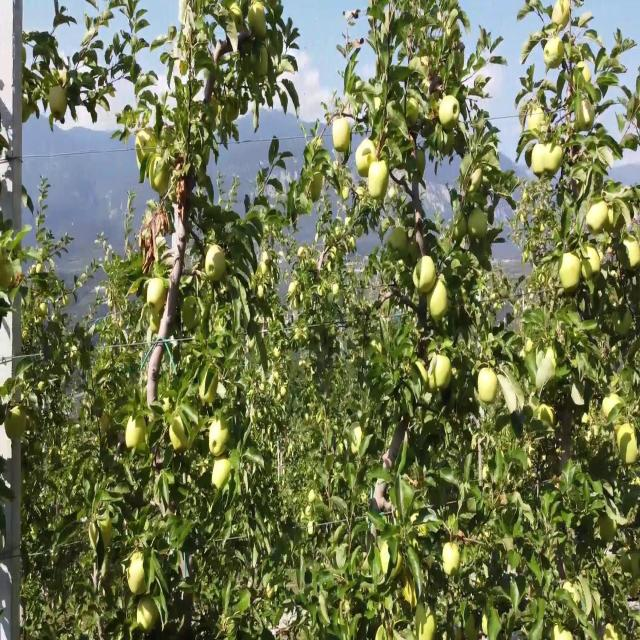apple: (616, 419, 640, 468), (428, 277, 450, 322), (409, 234, 432, 277), (416, 255, 437, 295), (368, 163, 391, 199), (356, 142, 379, 178), (440, 92, 461, 130), (544, 35, 566, 71), (152, 156, 171, 197), (128, 554, 146, 597), (560, 255, 580, 293), (212, 419, 231, 459), (148, 277, 168, 315), (580, 248, 601, 284), (4, 405, 25, 441), (588, 199, 607, 238), (208, 248, 228, 284), (480, 369, 500, 405), (140, 597, 160, 633), (432, 355, 452, 391), (172, 419, 192, 455), (576, 99, 596, 135), (332, 120, 352, 155), (620, 241, 640, 276), (248, 7, 268, 41), (128, 419, 148, 452), (528, 106, 547, 140), (408, 234, 426, 267), (212, 462, 232, 491), (468, 213, 488, 242), (548, 142, 564, 178), (528, 142, 544, 178), (604, 398, 623, 428), (600, 511, 618, 542), (388, 227, 408, 254), (184, 298, 199, 334), (176, 177, 195, 204), (412, 149, 427, 183), (532, 142, 546, 178), (552, 7, 572, 32), (452, 213, 468, 244), (444, 547, 461, 576), (348, 426, 365, 455), (256, 49, 270, 84), (428, 92, 443, 124), (52, 92, 68, 121), (608, 206, 624, 235), (160, 312, 176, 341), (616, 312, 632, 340), (204, 376, 219, 405), (408, 99, 422, 128), (376, 483, 390, 512), (416, 362, 429, 393), (404, 583, 418, 610), (424, 113, 437, 142), (224, 99, 239, 124), (540, 405, 556, 428), (312, 177, 325, 204), (580, 63, 593, 89), (420, 618, 436, 639), (180, 206, 192, 233), (456, 127, 467, 156), (440, 135, 455, 156), (472, 170, 484, 194), (424, 106, 437, 128), (100, 412, 111, 434), (240, 92, 249, 116), (152, 312, 161, 334), (380, 220, 392, 236), (340, 184, 351, 201), (24, 99, 31, 123), (164, 213, 171, 235)
